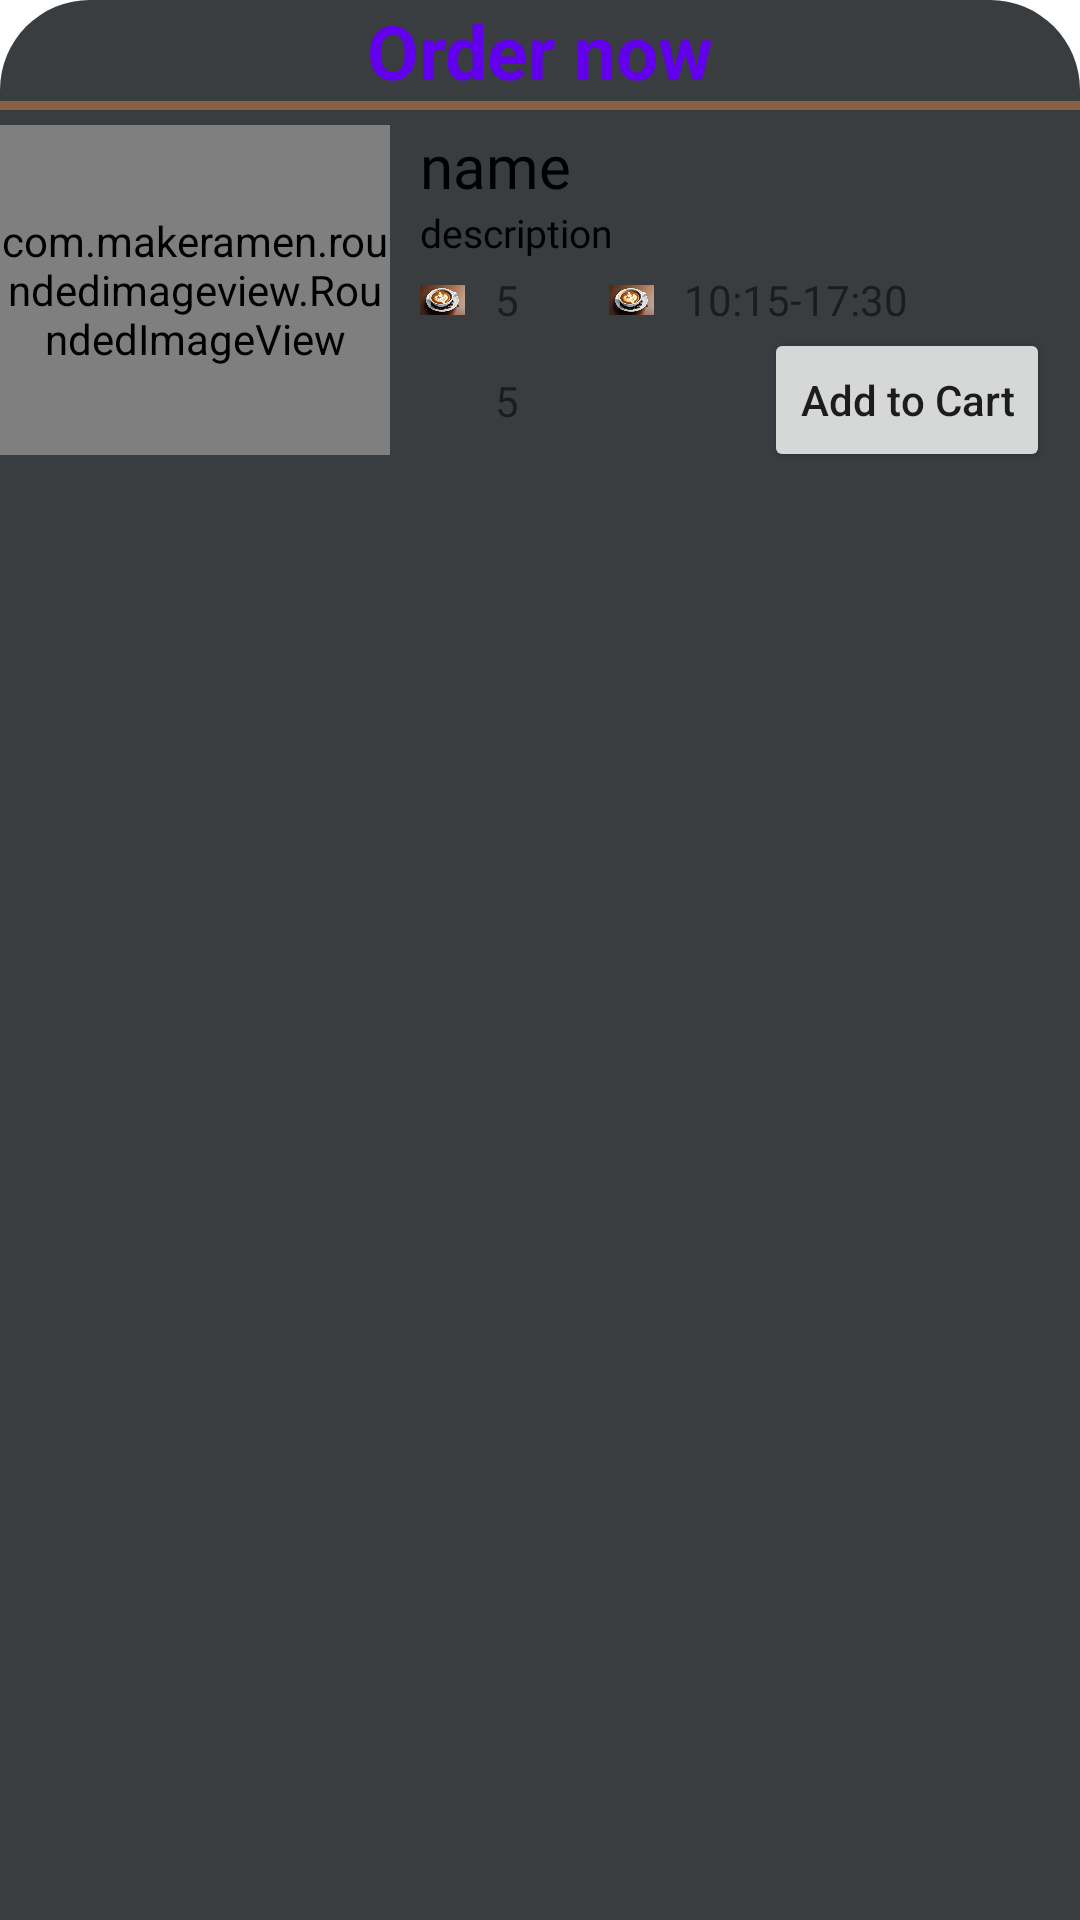

Icon click points for this 1080x1920 phone screenshot, format point (x, y):
cfmorning: point (442, 300), point (631, 300)
